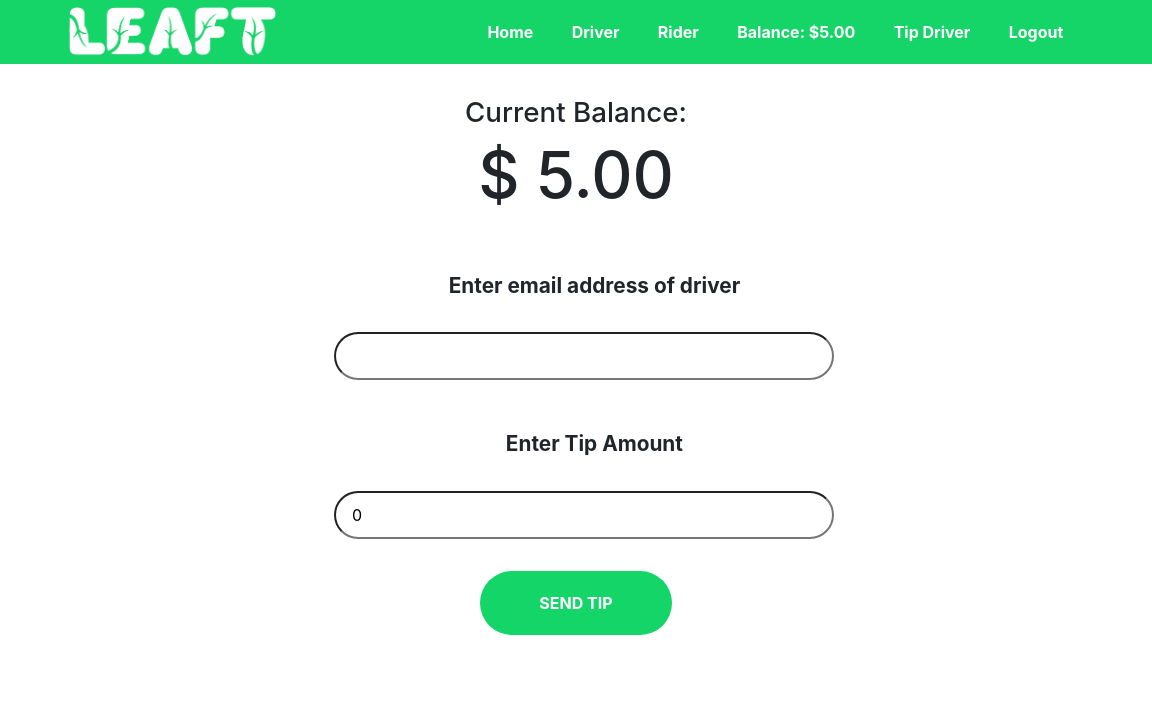
it: Balance Transfer › should display an error when clicking 'Send Tip' if the input field is empty
Click the button "Send Tip" at (576, 603), box top-left (480, 571), bottom-right (672, 635)
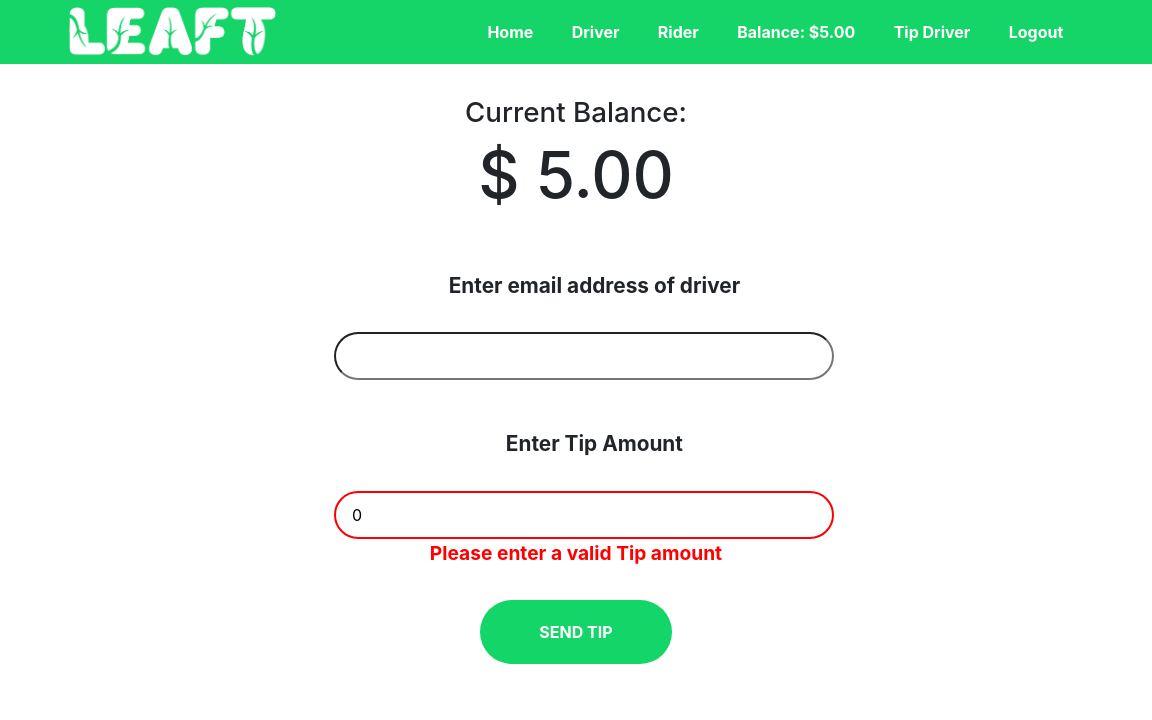
Expected: the text "Please enter a valid Tip amount" is shown, top-left (430, 541), bottom-right (722, 565)
